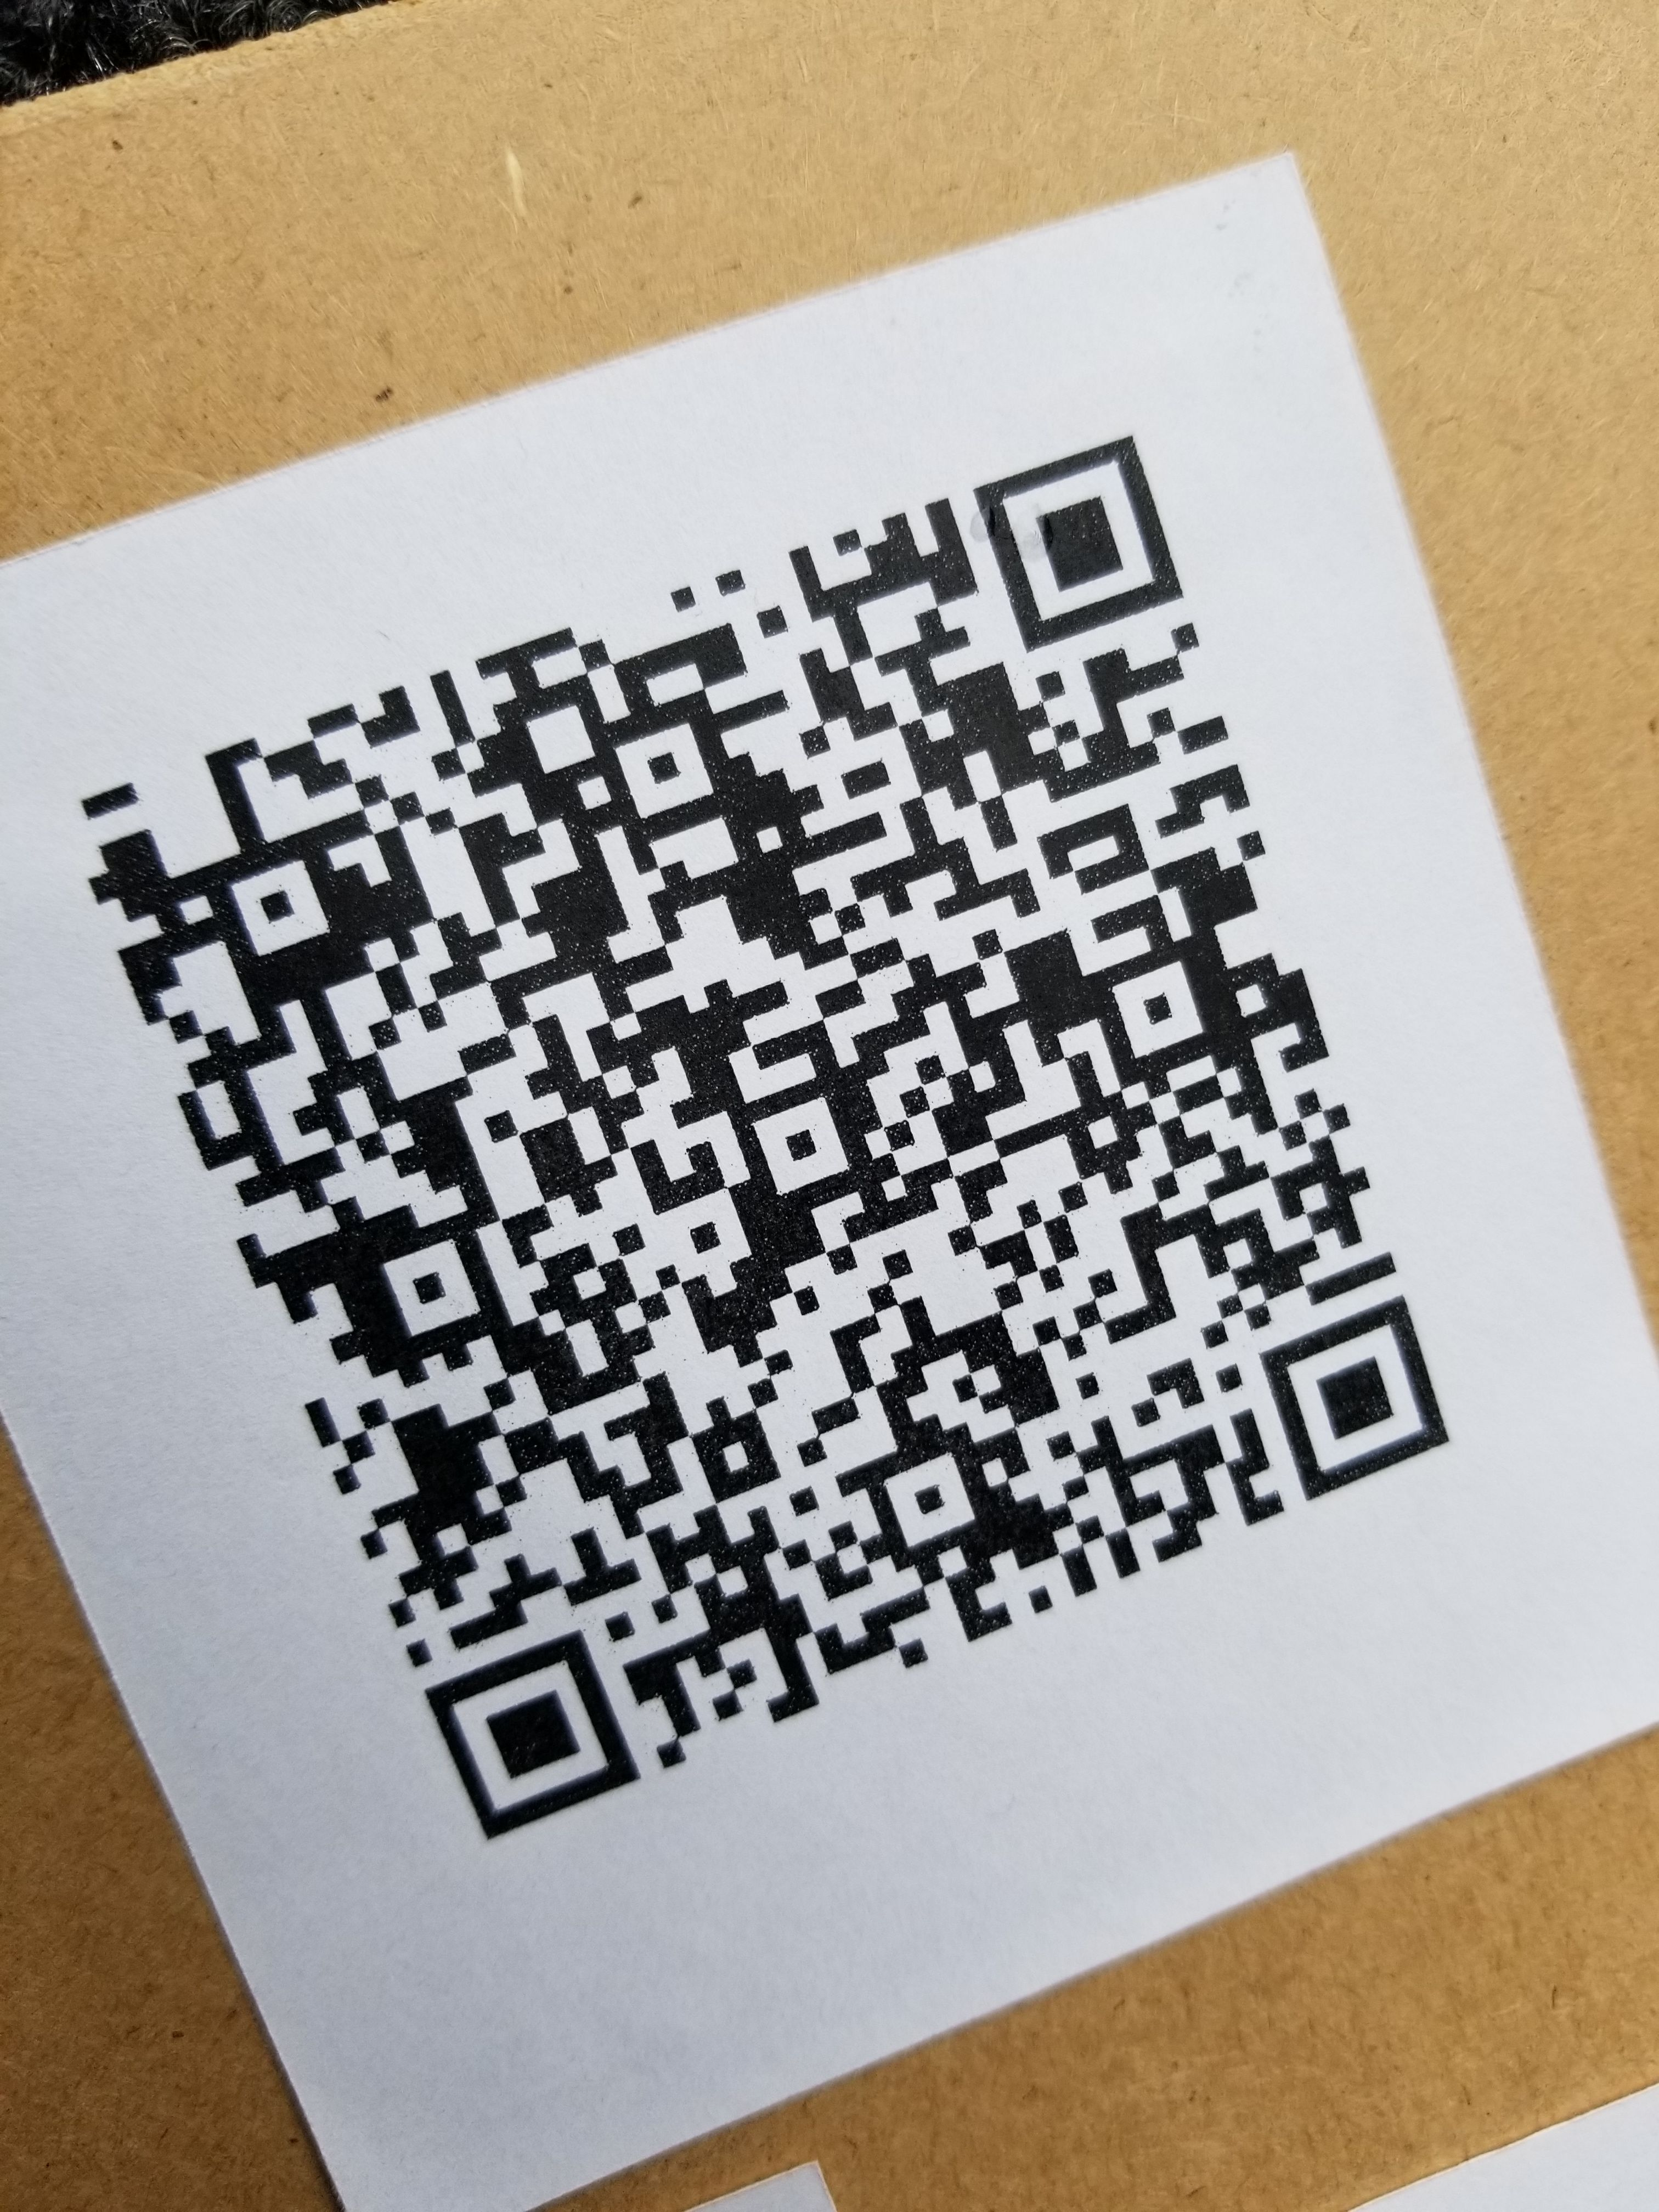QR_CODE: (28, 392, 1514, 1865)
